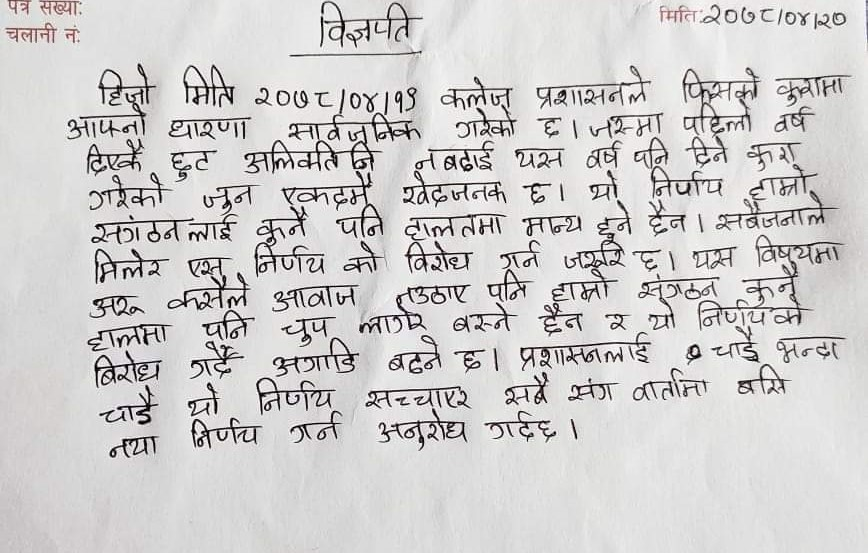text: (252, 82, 420, 115), (531, 64, 649, 109), (516, 334, 656, 370), (699, 1, 849, 34), (310, 1, 414, 47), (87, 214, 236, 246), (239, 141, 378, 175), (280, 112, 425, 142), (399, 173, 511, 210), (694, 296, 806, 331), (711, 199, 826, 233), (373, 411, 468, 451), (266, 277, 362, 314), (677, 62, 763, 103), (253, 373, 337, 414), (753, 230, 844, 267), (86, 246, 166, 288), (629, 366, 714, 405), (360, 383, 473, 412), (65, 105, 151, 142), (280, 171, 368, 207), (272, 341, 362, 376), (251, 240, 330, 279), (86, 319, 176, 353), (86, 177, 166, 215), (402, 211, 503, 241), (643, 162, 726, 198), (412, 137, 497, 172), (94, 60, 154, 109), (165, 279, 251, 313), (482, 410, 561, 447), (436, 73, 514, 110), (675, 101, 755, 137), (185, 417, 264, 453), (89, 351, 163, 389), (180, 62, 237, 110), (738, 260, 801, 303), (384, 333, 444, 377), (771, 71, 846, 106), (165, 112, 252, 142), (402, 241, 472, 278), (99, 386, 158, 429), (635, 272, 720, 301), (389, 279, 473, 308), (770, 333, 843, 366), (81, 140, 147, 176), (450, 110, 526, 139), (448, 306, 515, 338), (550, 269, 613, 303), (332, 204, 389, 241), (706, 326, 763, 363), (644, 198, 693, 241), (255, 206, 309, 245), (560, 241, 630, 271), (186, 342, 237, 383), (586, 111, 666, 137), (498, 373, 553, 408), (743, 173, 814, 200), (279, 312, 332, 348), (520, 211, 588, 239), (201, 178, 255, 213), (733, 366, 790, 399), (85, 291, 145, 322), (742, 138, 798, 171), (103, 431, 159, 464), (482, 267, 529, 306), (512, 141, 569, 173), (198, 308, 251, 342), (288, 414, 343, 446), (686, 133, 732, 171), (685, 240, 738, 272), (166, 148, 213, 183), (353, 313, 422, 336), (536, 305, 584, 338), (340, 240, 382, 277), (564, 377, 619, 404), (769, 105, 816, 136), (631, 134, 672, 169), (593, 210, 636, 242), (644, 298, 683, 333), (496, 240, 540, 271), (185, 383, 221, 420), (581, 141, 623, 172), (455, 342, 489, 377), (186, 251, 229, 278), (586, 171, 621, 203), (518, 181, 555, 209), (632, 247, 665, 274), (536, 114, 565, 140), (603, 310, 629, 332)
